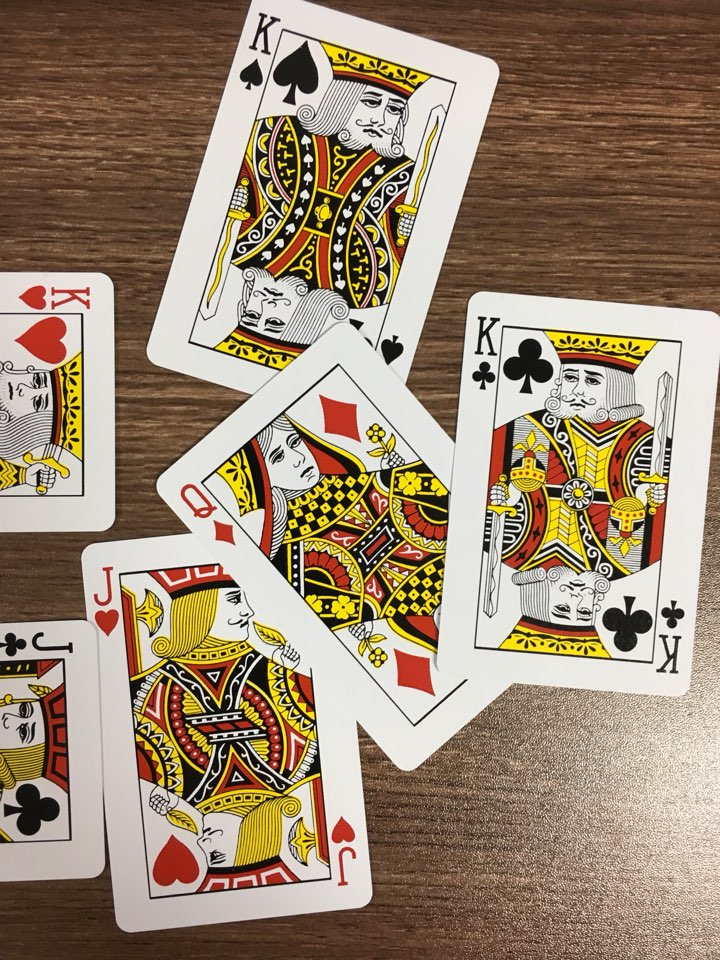jack: (69, 525, 392, 934), (1, 593, 119, 901)
king: (139, 1, 519, 427), (432, 272, 720, 711), (1, 266, 128, 545)
queen: (150, 314, 594, 781)
